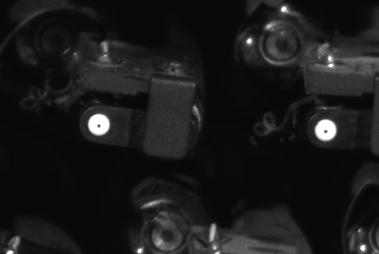fiber: (309, 113, 345, 147), (85, 110, 115, 141)
